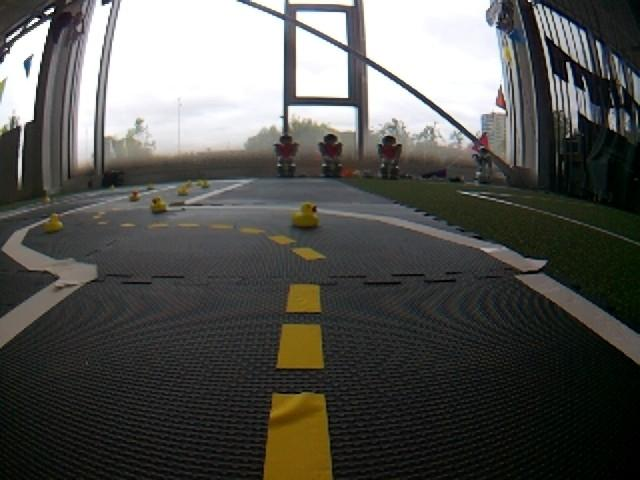Duckies: (290, 204, 319, 227), (42, 214, 62, 231), (150, 196, 168, 212), (195, 179, 212, 189), (177, 185, 189, 195), (129, 191, 140, 201), (45, 197, 51, 203), (186, 180, 192, 186), (111, 184, 116, 191), (147, 184, 154, 188)
